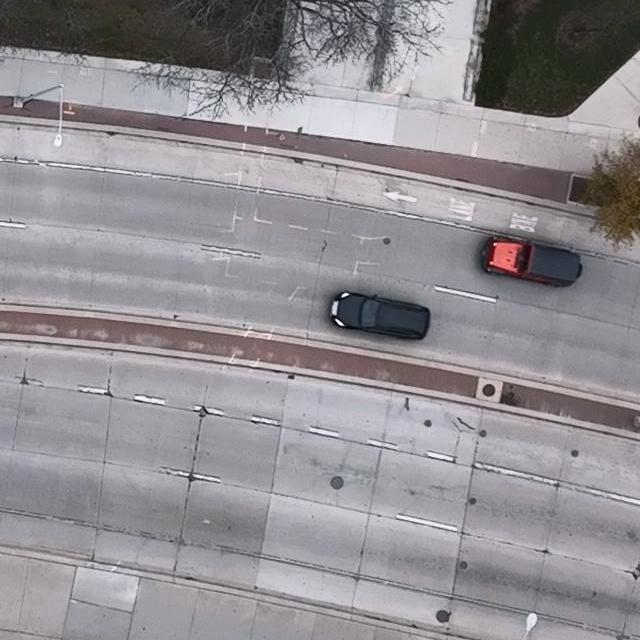car: (481, 236, 582, 287), (327, 290, 431, 339)
